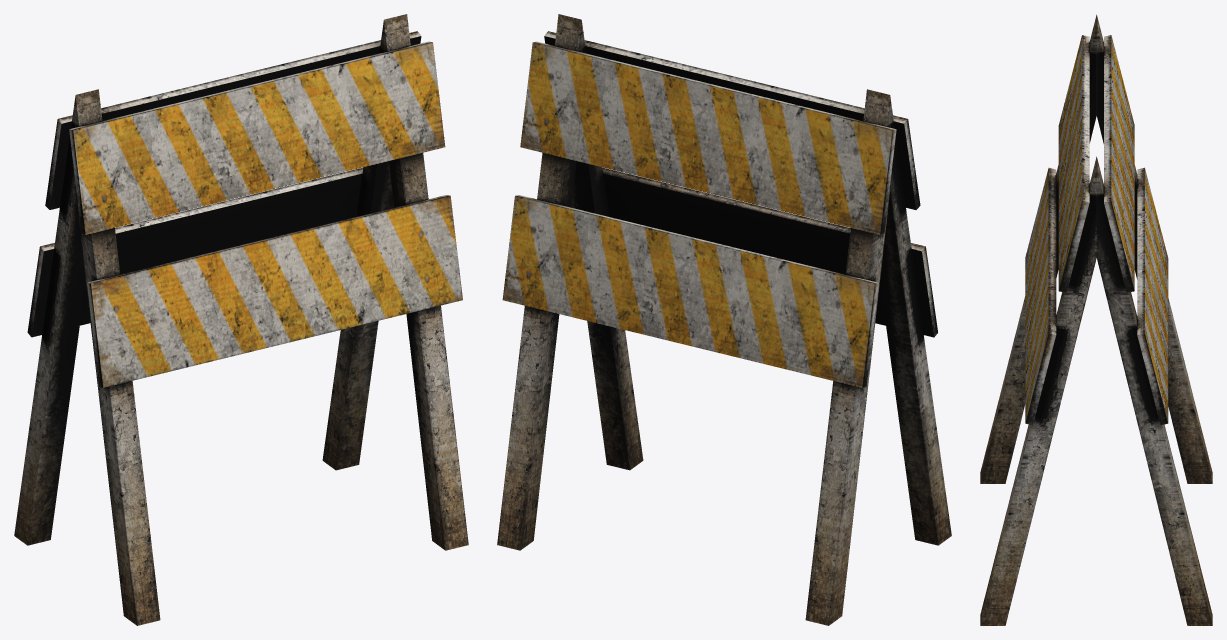
The model's file is barrierSmall_wooden_LODGroup.fbx.
3 renders of one model, left to right at view 1: azimuth 30°, elevation 25°; view 2: azimuth 150°, elevation 25°; view 3: azimuth 270°, elevation 25°, orthographic. The views are drawn at different scales.
Visible parts, largest first — view 1: barrier_smallwooden_LOD0; view 2: barrier_smallwooden_LOD0; view 3: barrier_smallwooden_LOD0.
Boxes of the visible parts, x1,y1,x2,y2 form: barrier_smallwooden_LOD0: [14, 14, 468, 625]; barrier_smallwooden_LOD0: [497, 14, 951, 625]; barrier_smallwooden_LOD0: [980, 14, 1212, 625].
Size of what is drawn, in the model's own units: 0.775 by 1 by 0.459.
